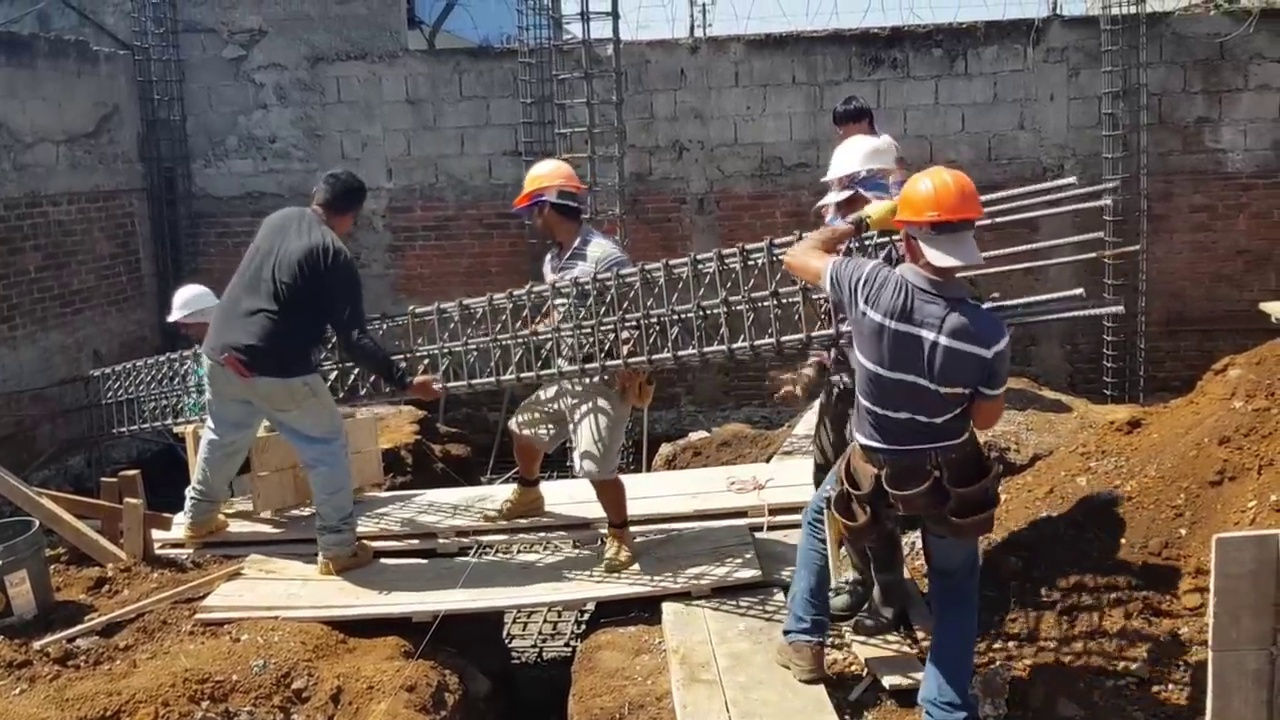helmet: (884, 162, 991, 228), (820, 141, 910, 213), (511, 162, 589, 217), (157, 286, 211, 330)
helmet-off: (309, 169, 365, 246), (831, 96, 878, 141)
helmet-on: (884, 161, 990, 279), (822, 141, 909, 262), (509, 162, 587, 250), (158, 285, 220, 347)
person: (800, 119, 1016, 720), (176, 170, 394, 580), (489, 166, 660, 575), (812, 143, 911, 639), (158, 283, 224, 421)
